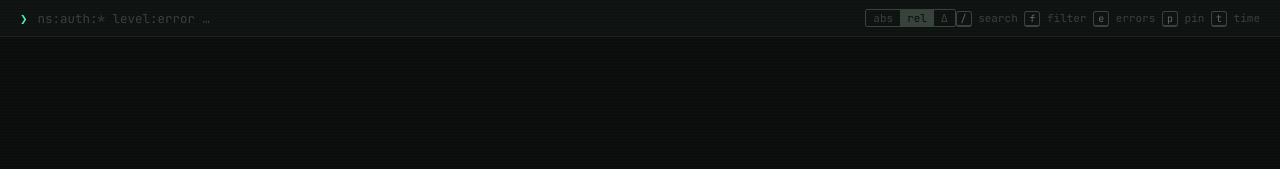
Test: CmdBar › autocomplete › shows key-prefix suggestions when the input is empty but focused
Step 1. Focus the dropdown named "filter or search" → coordinates (446, 18), box [38, 10, 855, 26]
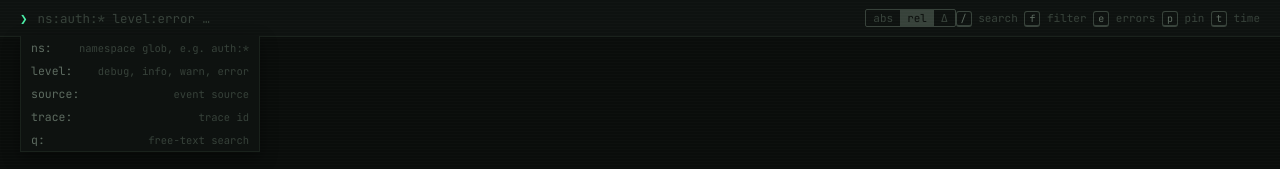
expect the list is shown: met, box [20, 36, 260, 152]
expect the number of options is 5: met, box [21, 36, 259, 59]; [21, 59, 259, 82]; [21, 82, 259, 105]; [21, 105, 259, 128]; [21, 128, 259, 151]
